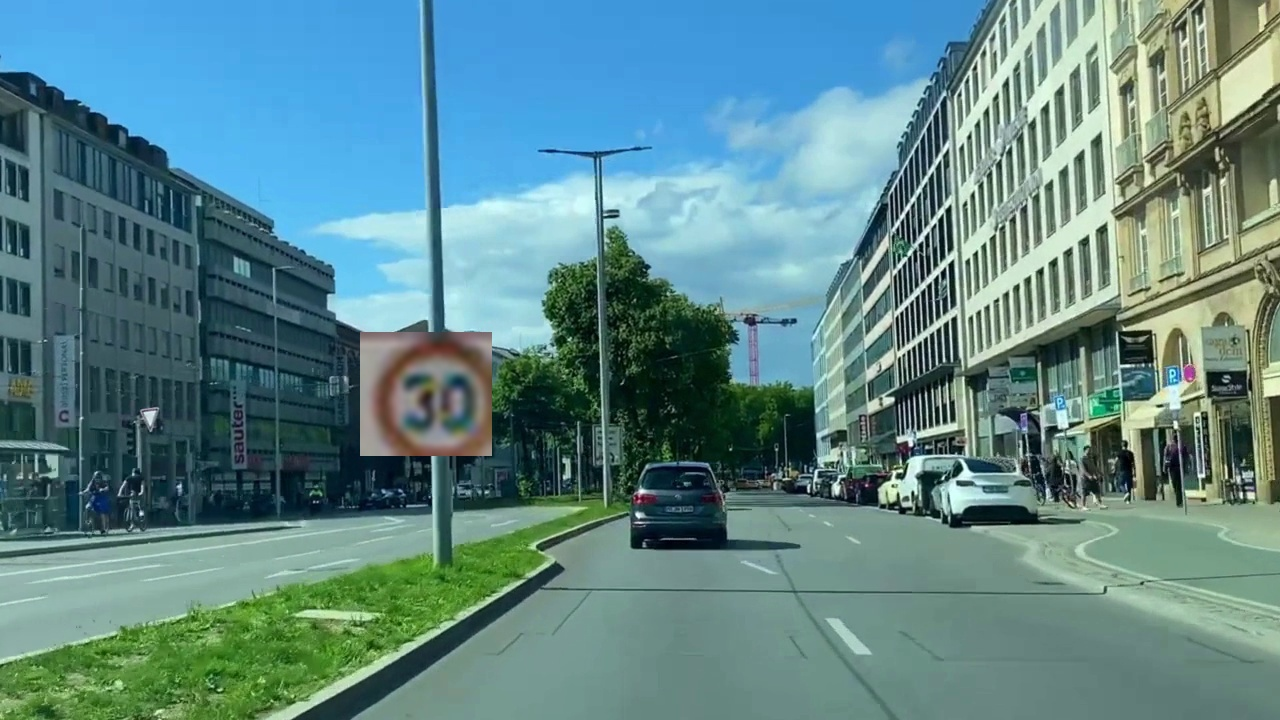Speed 30: (360, 332, 492, 456)
